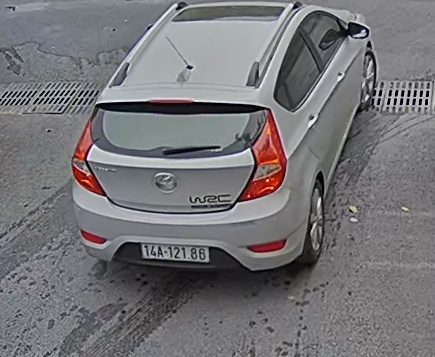vehicle plate: (139, 237, 215, 265)
